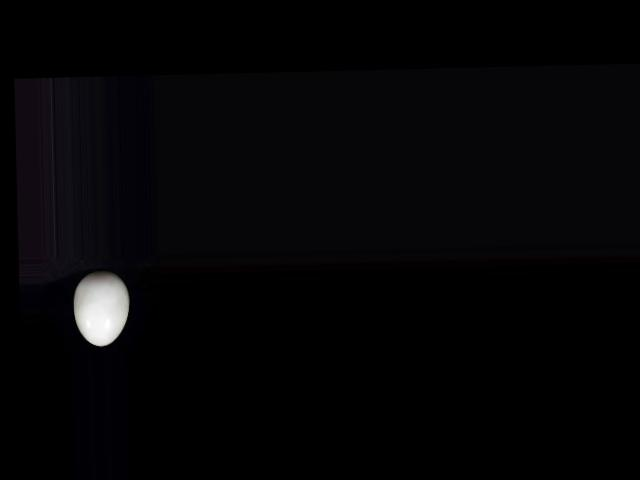egg: (73, 268, 129, 346)
